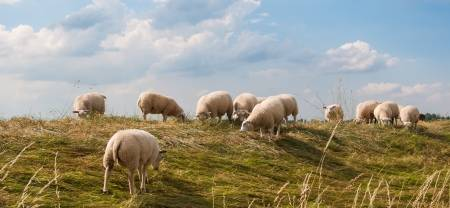sheep: (98, 126, 167, 193), (136, 88, 188, 127), (239, 95, 284, 140), (69, 89, 110, 123), (193, 89, 231, 121), (231, 88, 257, 123), (351, 98, 375, 126), (398, 105, 420, 133), (372, 103, 394, 129), (321, 101, 345, 123)
